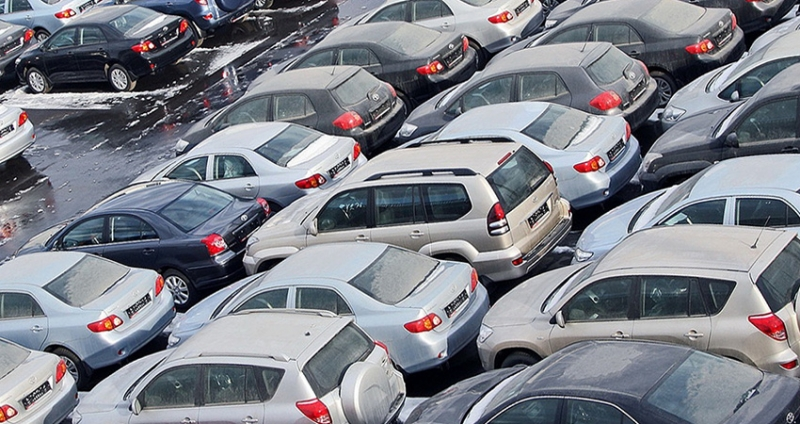Car: (477, 224, 800, 377), (242, 136, 572, 282), (166, 242, 489, 375), (71, 310, 407, 424), (10, 180, 273, 310), (405, 340, 800, 424), (485, 0, 745, 105), (394, 43, 659, 146), (400, 102, 641, 210), (570, 153, 800, 264), (0, 251, 176, 388), (127, 122, 367, 211), (175, 65, 407, 156), (637, 63, 800, 192), (247, 22, 477, 111), (13, 5, 197, 94), (321, 0, 544, 67), (661, 30, 800, 131), (95, 0, 256, 46), (0, 337, 78, 424), (685, 0, 800, 42), (0, 0, 101, 41), (0, 20, 38, 81), (0, 103, 36, 166), (747, 16, 800, 55), (544, 0, 606, 30), (255, 0, 321, 10), (540, 0, 563, 24)
